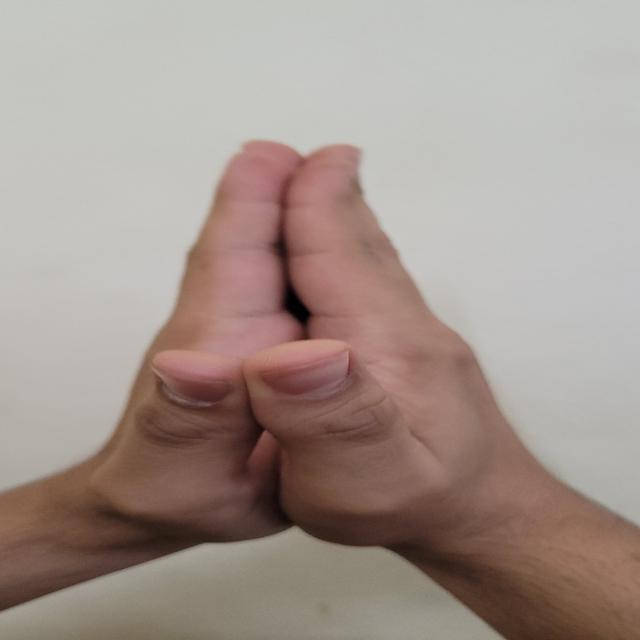Thank You: (79, 90, 536, 575)
